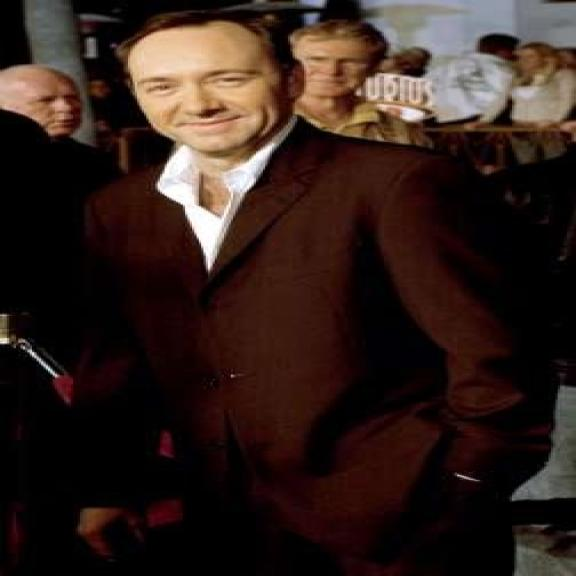face: (122, 36, 309, 155), (298, 33, 372, 101), (9, 76, 92, 136), (511, 46, 547, 73)
